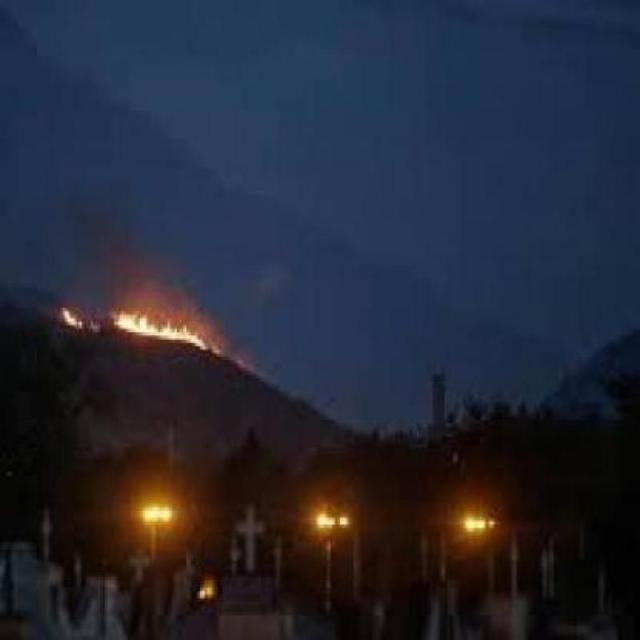Smoke: (52, 258, 228, 368)
